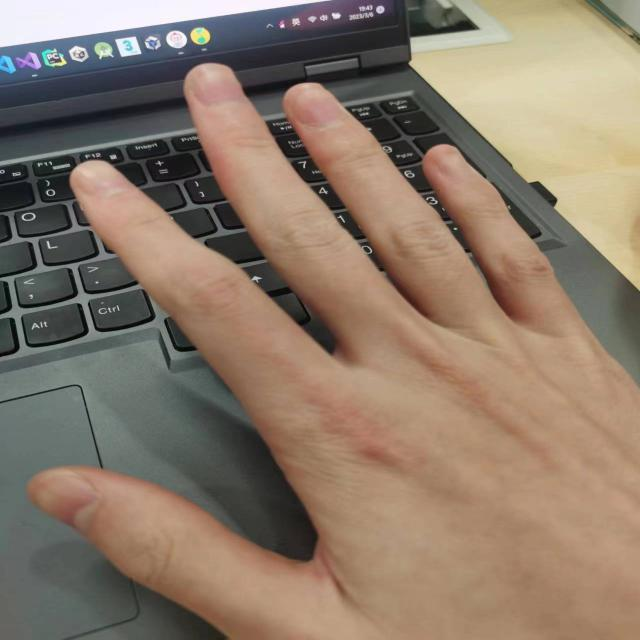Nail: (27, 468, 101, 534), (287, 83, 346, 127), (189, 64, 243, 108), (72, 160, 133, 196), (431, 145, 472, 180)
